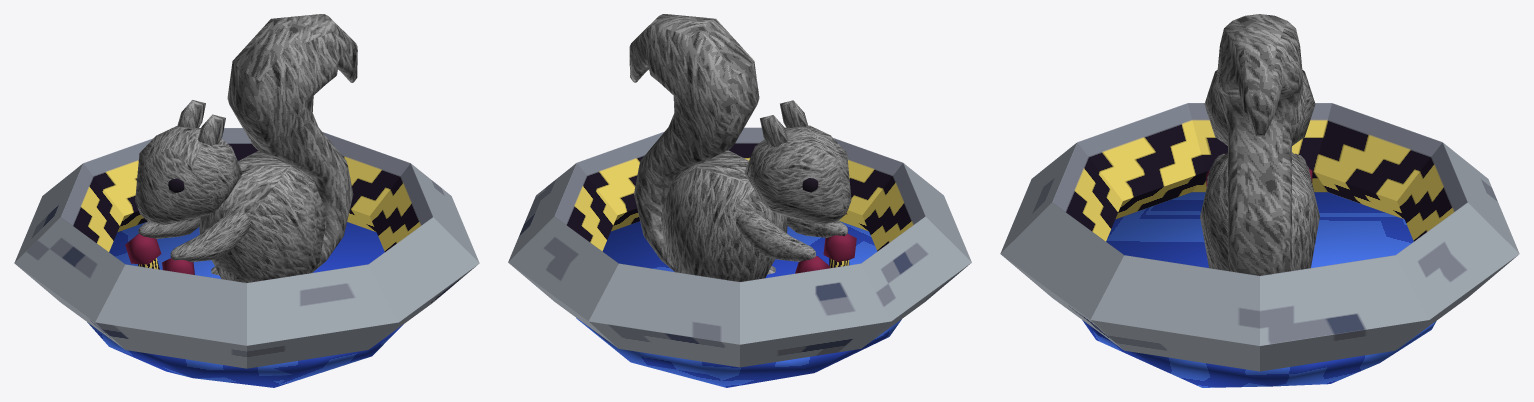
Rendered from squirrelScaledUpUV.glb.
3 renders of one model, left to right at view 1: azimuth 30°, elevation 25°; view 2: azimuth 150°, elevation 25°; view 3: azimuth 270°, elevation 25°, orthographic. The views are drawn at different scales.
Parts seen in each view (by area): view 1: SaucerRim, Tail, Body, SaucerBase, Head, LeftArm, RightControlStick, RightArm, LeftEar, RightEar, LeftControlStick; view 2: SaucerRim, Tail, Body, SaucerBase, Head, RightArm, LeftControlStick, LeftArm, RightEar, LeftEar; view 3: SaucerRim, Tail, SaucerBase, Body, Head.
Boxes of the visible parts, x1,y1,x2,y2 form: SaucerRim: (14, 128, 479, 368); Tail: (227, 14, 357, 273); Body: (199, 150, 325, 282); SaucerBase: (87, 222, 403, 387); Head: (135, 126, 242, 225); LeftArm: (170, 212, 250, 262); RightControlStick: (125, 234, 161, 269); RightArm: (138, 217, 199, 238); LeftEar: (198, 114, 225, 145); RightEar: (177, 100, 205, 128); LeftControlStick: (162, 258, 194, 274); SaucerRim: (508, 127, 971, 367); Tail: (629, 14, 759, 272); Body: (661, 150, 787, 281); SaucerBase: (576, 221, 901, 387); Head: (744, 125, 851, 224); RightArm: (736, 211, 815, 261); LeftControlStick: (823, 233, 856, 268); LeftArm: (787, 216, 848, 237); RightEar: (760, 115, 788, 147); LeftEar: (780, 100, 808, 127); SaucerRim: (1000, 103, 1519, 371); Tail: (1216, 14, 1303, 275); SaucerBase: (1082, 192, 1436, 387); Body: (1200, 152, 1319, 270); Head: (1204, 70, 1315, 145).
Bounding box in the file's own units: 2.42 × 1.93 × 2.46.
5 materials, 3 textured.
